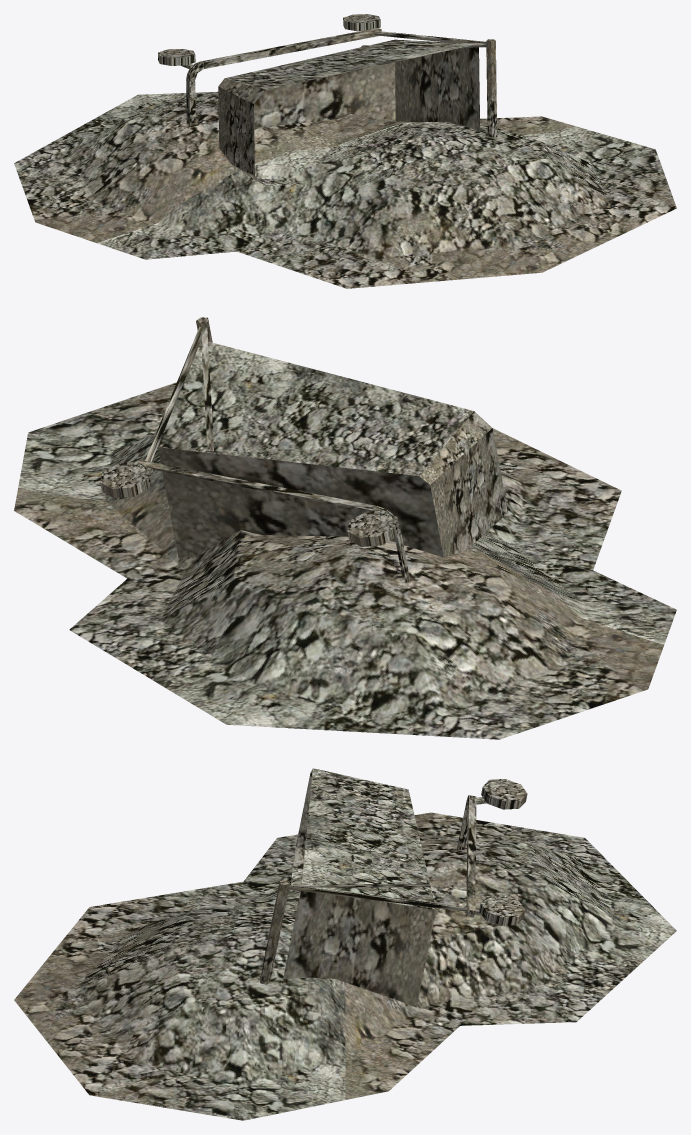
Rendered from cj_urb_rub_5.obj.
The picture shows the model from 3 angles, top to bottom: view 1: azimuth 30°, elevation 25°; view 2: azimuth 150°, elevation 25°; view 3: azimuth 270°, elevation 25°; orthographic projection. The views are drawn at different scales.
Visible parts, largest first — view 1: CJ_urb_rub_5; view 2: CJ_urb_rub_5; view 3: CJ_urb_rub_5.
Boxes of the visible parts, x1,y1,x2,y2 form: CJ_urb_rub_5: (14, 14, 676, 288); CJ_urb_rub_5: (14, 317, 676, 739); CJ_urb_rub_5: (14, 768, 676, 1120).
Size of the model in its own units: 3.32 by 0.8116 by 3.02.
2 materials, 2 textured.
